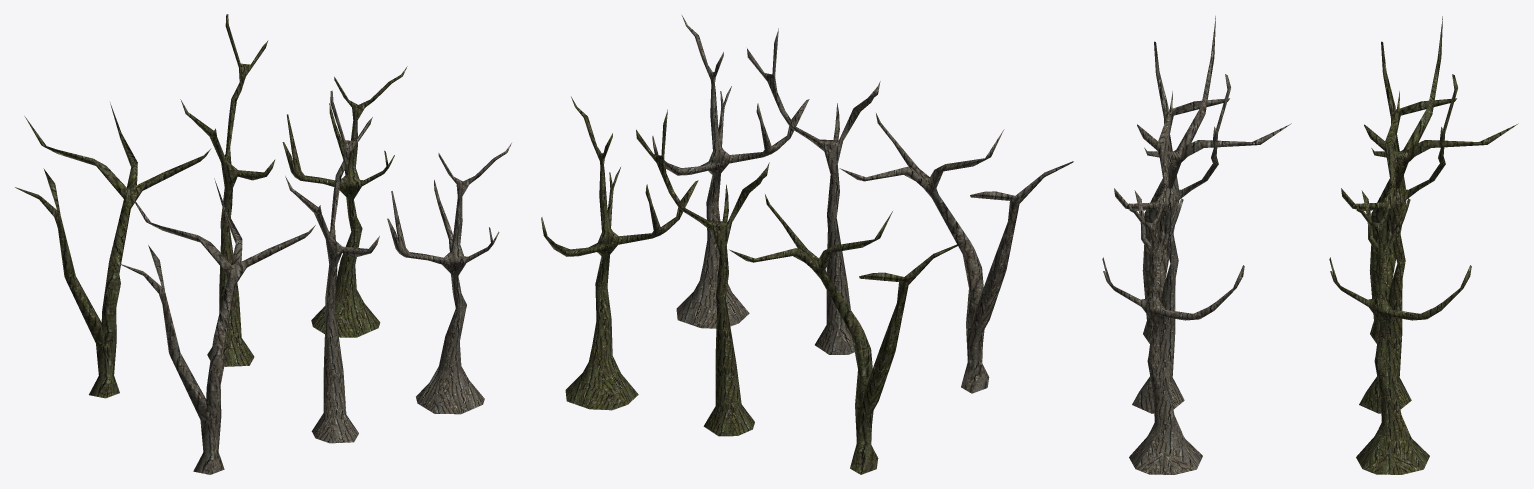
Rendered from DeadTreePack.fbx.
3 renders of one model, left to right at view 1: azimuth 30°, elevation 25°; view 2: azimuth 150°, elevation 25°; view 3: azimuth 270°, elevation 25°, orthographic. The views are drawn at different scales.
Parts seen in each view (by area): view 1: Tree1M, Tree 1, Tree3, Tree3m, Tree2, Tree2m; view 2: Tree 1, Tree1M, Tree3m, Tree3, Tree2m, Tree2; view 3: Tree3m, Tree3, Tree2m, Tree2, Tree1M, Tree 1.
Part boxes in pixels (bbox=[...]): Tree1M: bbox=[15, 102, 211, 398]; Tree 1: bbox=[119, 178, 315, 474]; Tree3: bbox=[387, 143, 511, 414]; Tree3m: bbox=[282, 66, 407, 337]; Tree2: bbox=[285, 90, 379, 443]; Tree2m: bbox=[180, 14, 275, 366]; Tree 1: bbox=[839, 113, 1073, 393]; Tree1M: bbox=[729, 194, 962, 474]; Tree3m: bbox=[541, 96, 698, 410]; Tree3: bbox=[652, 15, 809, 328]; Tree2m: bbox=[636, 109, 769, 436]; Tree2: bbox=[747, 28, 880, 354]; Tree3m: bbox=[1329, 183, 1471, 474]; Tree3: bbox=[1102, 183, 1244, 474]; Tree2m: bbox=[1341, 74, 1457, 413]; Tree2: bbox=[1114, 74, 1230, 413]; Tree1M: bbox=[1369, 16, 1518, 343]; Tree 1: bbox=[1142, 16, 1291, 343].
Bounding box in the file's own units: 2317 × 1875 × 2022.
